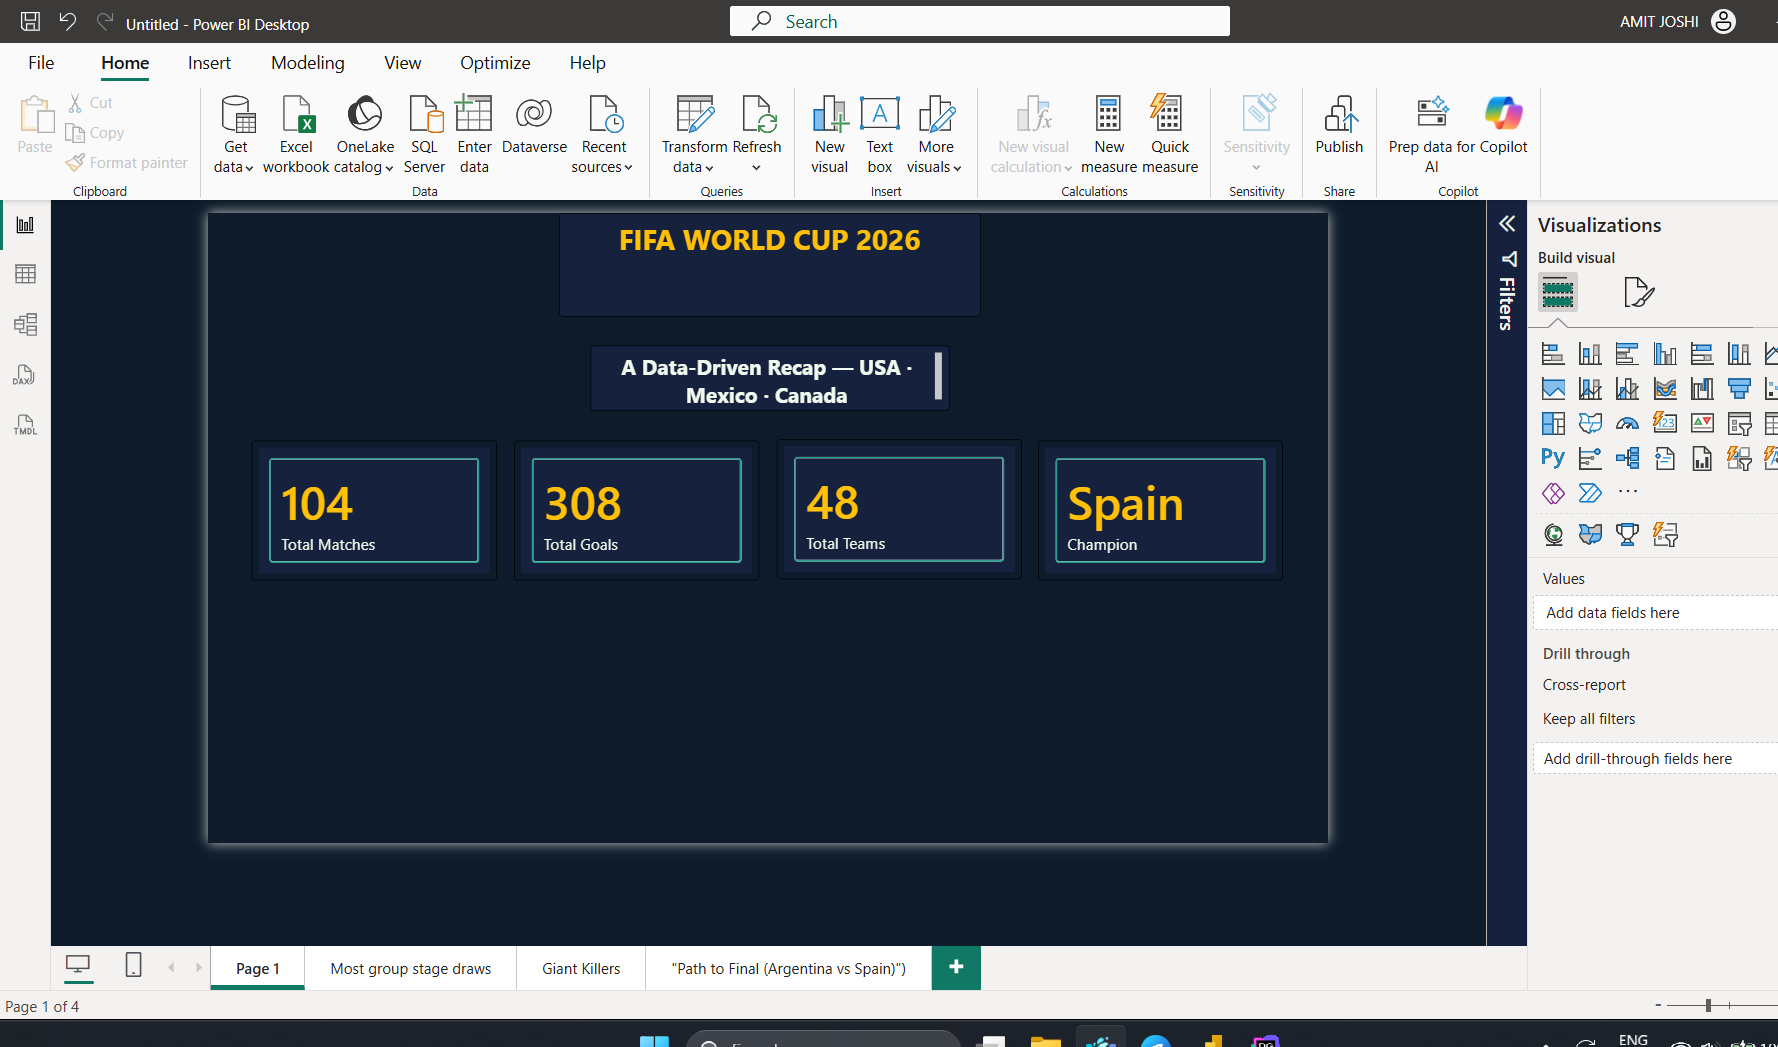

The dashboard page shown, as its layout file describes it:
{"tool":"powerbi","page":{"name":"Page 1","canvas":[1280,720],"ordinal":0},"visuals":[{"type":"textbox","box":[401.4,0,481.4,118.6],"z":0},{"type":"cardVisual","fields":{"Data":["games_live.Total Matches"]},"box":[50,260,280,160],"z":1000},{"type":"textbox","box":[437.1,151.4,410,74.3],"z":2000},{"type":"cardVisual","fields":{"Data":["games_live.Total Goals"]},"box":[350,260,280,160],"z":3000},{"type":"cardVisual","fields":{"Data":["games_live.Total Teams"]},"box":[650,258,280,160],"z":4000},{"type":"cardVisual","fields":{"Data":["games_live.Champion"]},"box":[948,260,280,160],"z":6000}]}

Visuals, with their boxes on the page's 1280x720 design canvas (x1, y1, x2, y2). These are canvas units, not pixel positions in the 1778x1047 screenshot, which may show the page scaled, cropped or inside an application window:
textbox: 401/0/883/119
cardVisual - games_live.Total Matches: 50/260/330/420
textbox: 437/151/847/226
cardVisual - games_live.Total Goals: 350/260/630/420
cardVisual - games_live.Total Teams: 650/258/930/418
cardVisual - games_live.Champion: 948/260/1228/420
